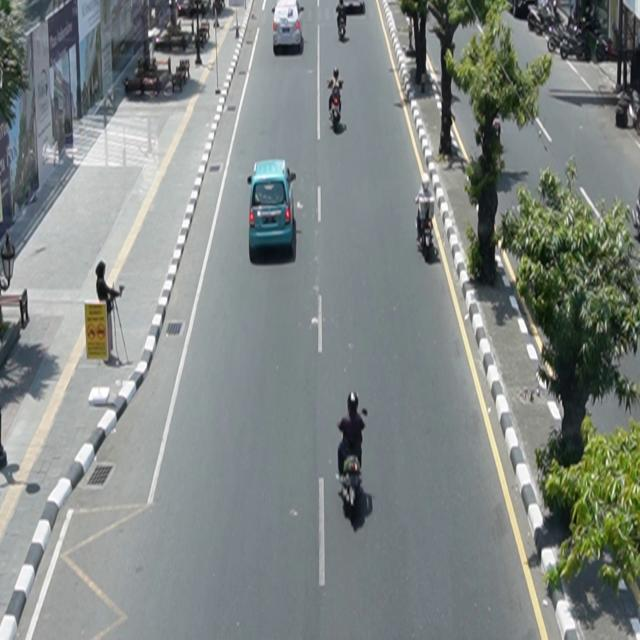car: (248, 159, 297, 262), (273, 1, 305, 56)
